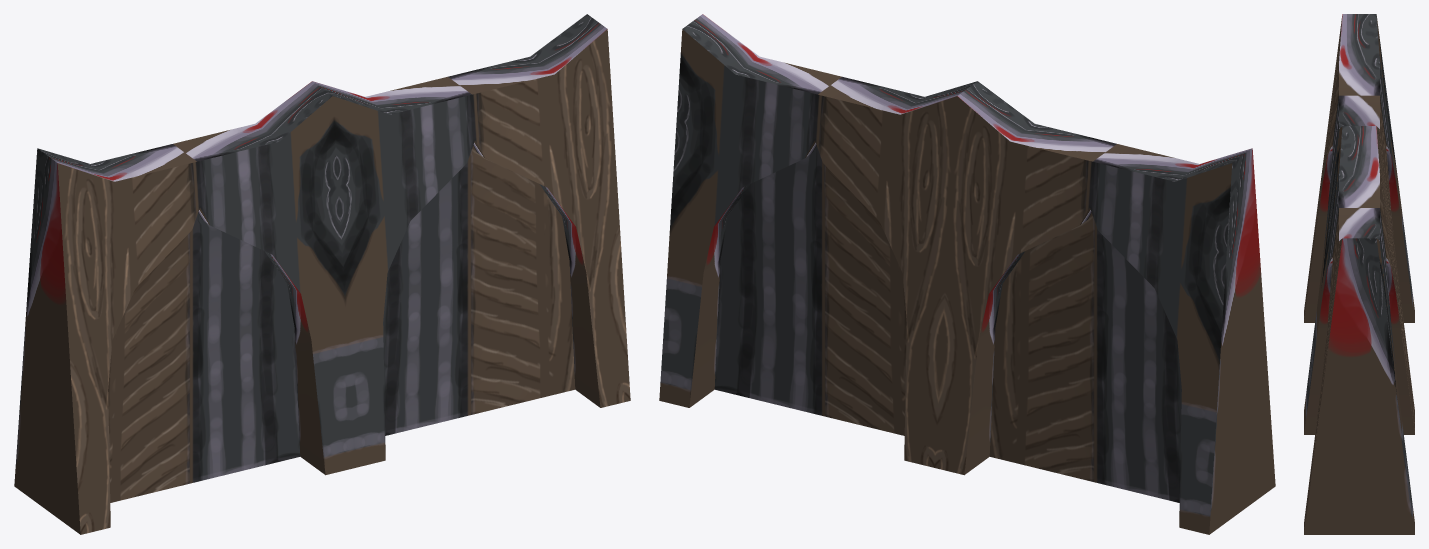
Rendered from Wall.obj.
The picture shows the model from 3 angles, left to right: view 1: azimuth 30°, elevation 25°; view 2: azimuth 150°, elevation 25°; view 3: azimuth 270°, elevation 25°; orthographic projection. The views are drawn at different scales.
Visible parts, largest first — view 1: WallLong; view 2: WallLong; view 3: WallLong.
Boxes of the visible parts, x1,y1,x2,y2 form: WallLong: (14, 14, 630, 534); WallLong: (659, 14, 1275, 534); WallLong: (1304, 14, 1414, 534).
Bounding box in the file's own units: 30 × 18.51 × 6.27.
